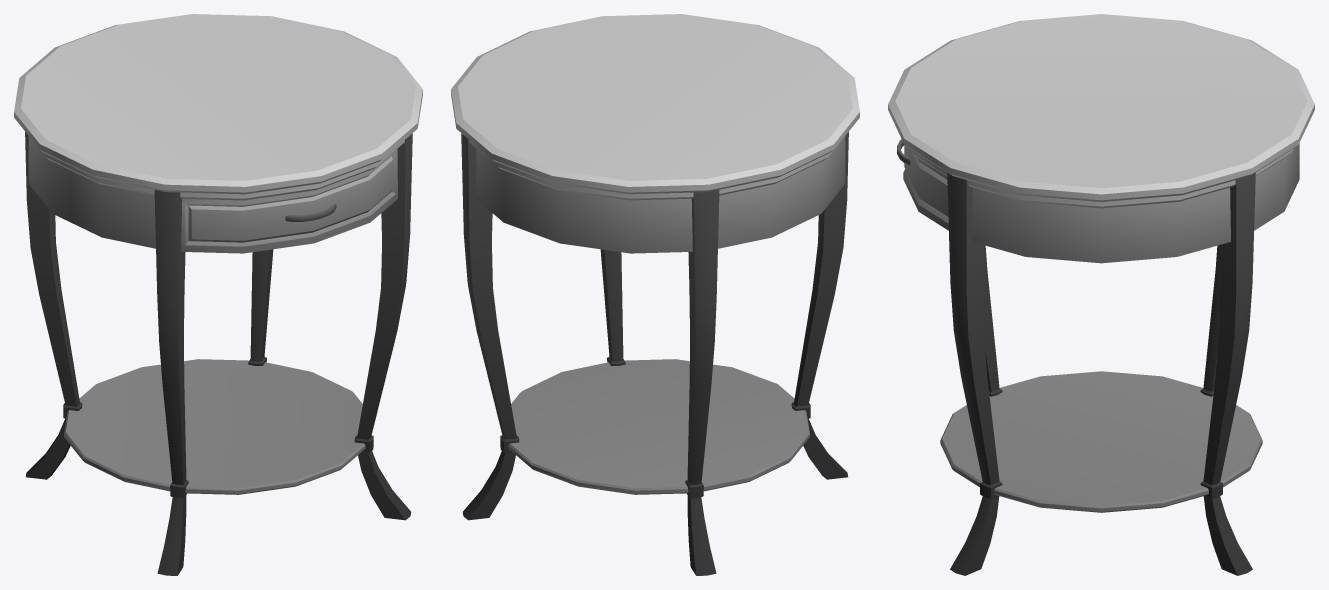
The model's file is Drawer_04.fbx.
3 views of the same model, side by side, from view 1: azimuth 30°, elevation 25°; view 2: azimuth 150°, elevation 25°; view 3: azimuth 270°, elevation 25° (orthographic). The views are drawn at different scales.
Parts seen in each view (by area): view 1: pCylinder138; view 2: pCylinder138; view 3: pCylinder138.
Boxes of the visible parts, x1,y1,x2,y2 form: pCylinder138: (14, 14, 422, 575); pCylinder138: (451, 14, 859, 575); pCylinder138: (888, 14, 1314, 575).
Bounding box in the file's own units: 0.7305 × 0.7758 × 0.7305.
